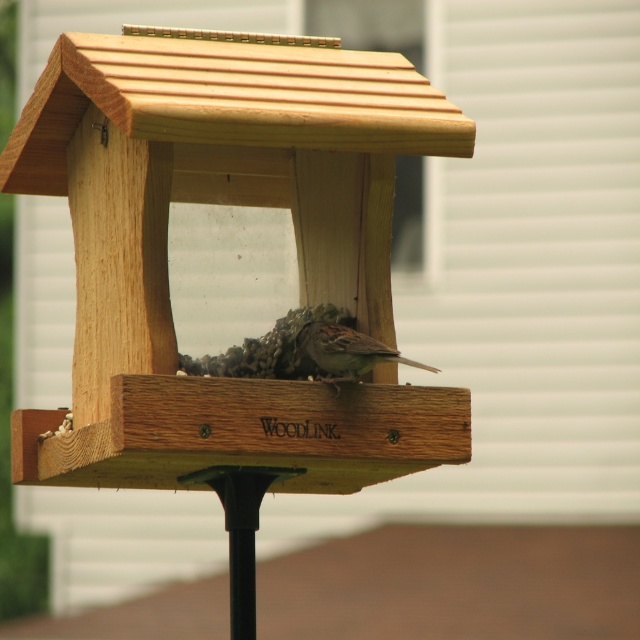Sparrow: (292, 318, 443, 402)
